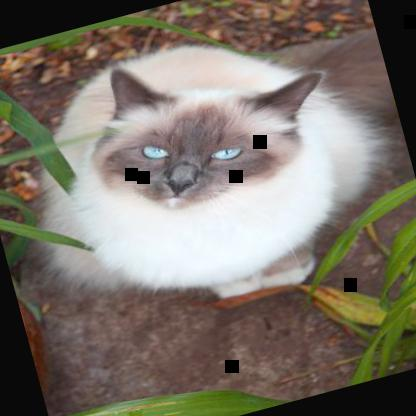cat: (4, 0, 415, 344)
